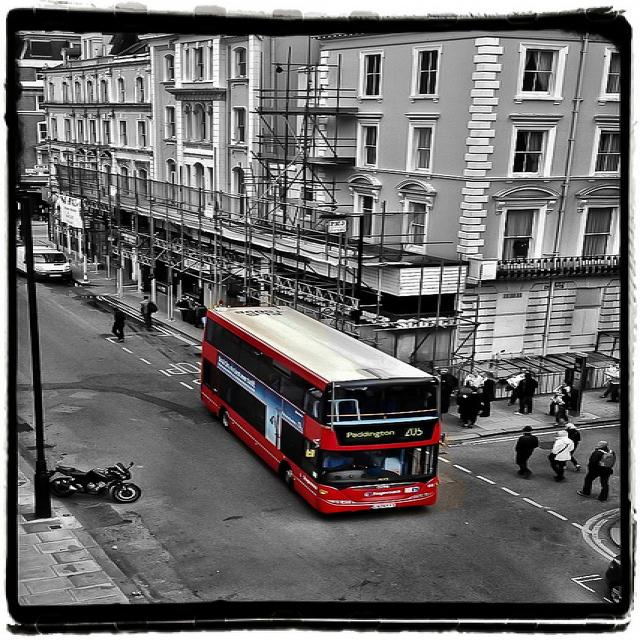motor: (48, 460, 141, 503)
